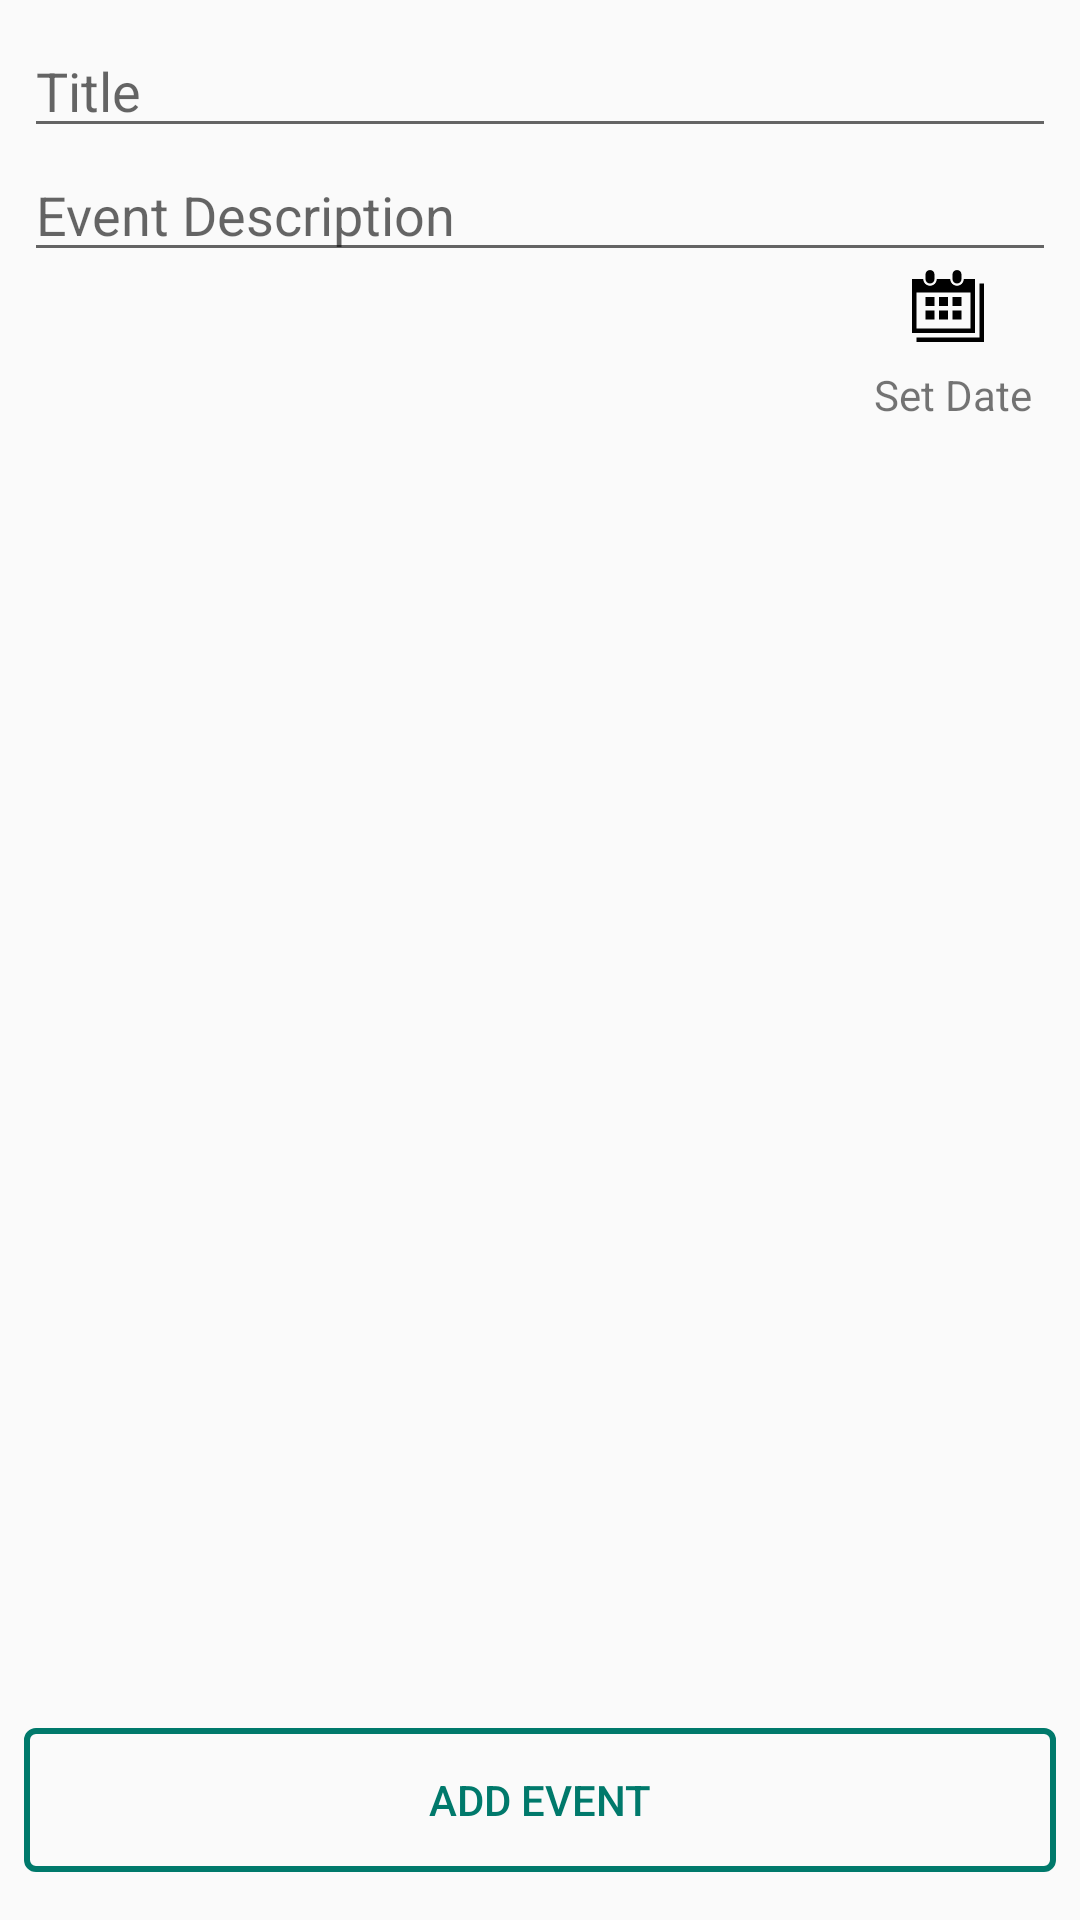

Locate icon controls on the screen. Image size 1080*1920, boxes as BBox(x1, y1, x2, y2).
calendar: BBox(912, 270, 984, 342)
